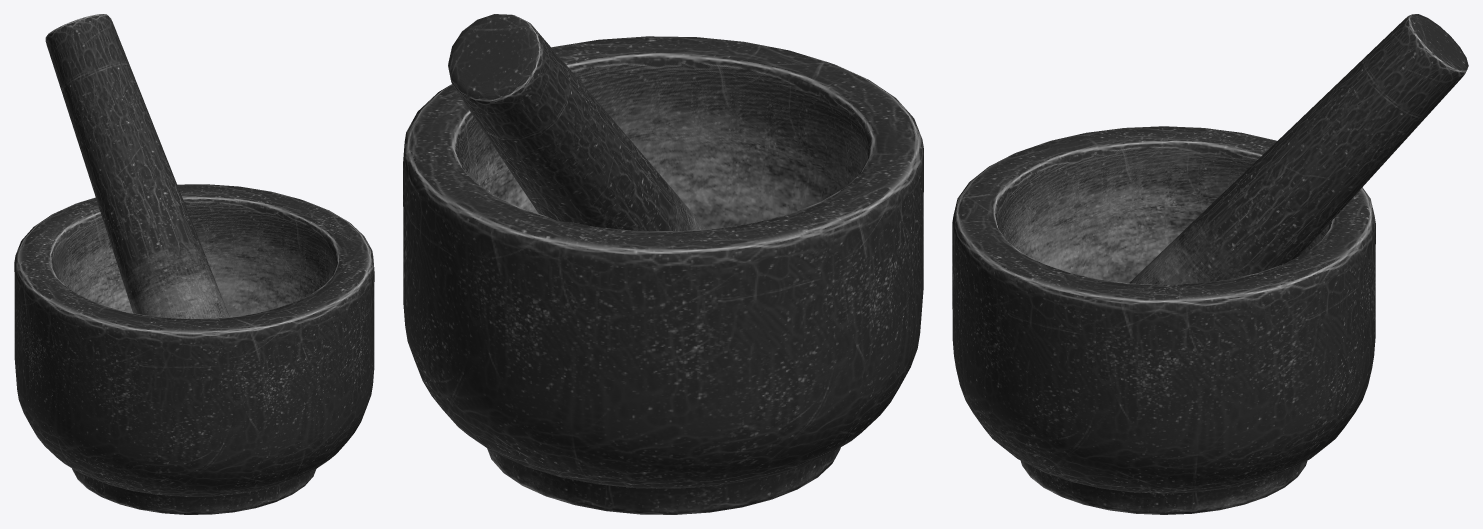
File: MortarPestle.fbx
The picture shows the model from 3 angles, left to right: view 1: azimuth 30°, elevation 25°; view 2: azimuth 150°, elevation 25°; view 3: azimuth 270°, elevation 25°; orthographic projection. The views are drawn at different scales.
Parts seen in each view (by area): view 1: Mortar_Pestle_low; view 2: Mortar_Pestle_low; view 3: Mortar_Pestle_low.
Part boxes in pixels (x1=…): Mortar_Pestle_low: x1=14, y1=14, x2=374, y2=514; Mortar_Pestle_low: x1=403, y1=14, x2=923, y2=514; Mortar_Pestle_low: x1=952, y1=14, x2=1468, y2=514.
Bounding box in the file's own units: 90.38 × 103 × 110.
